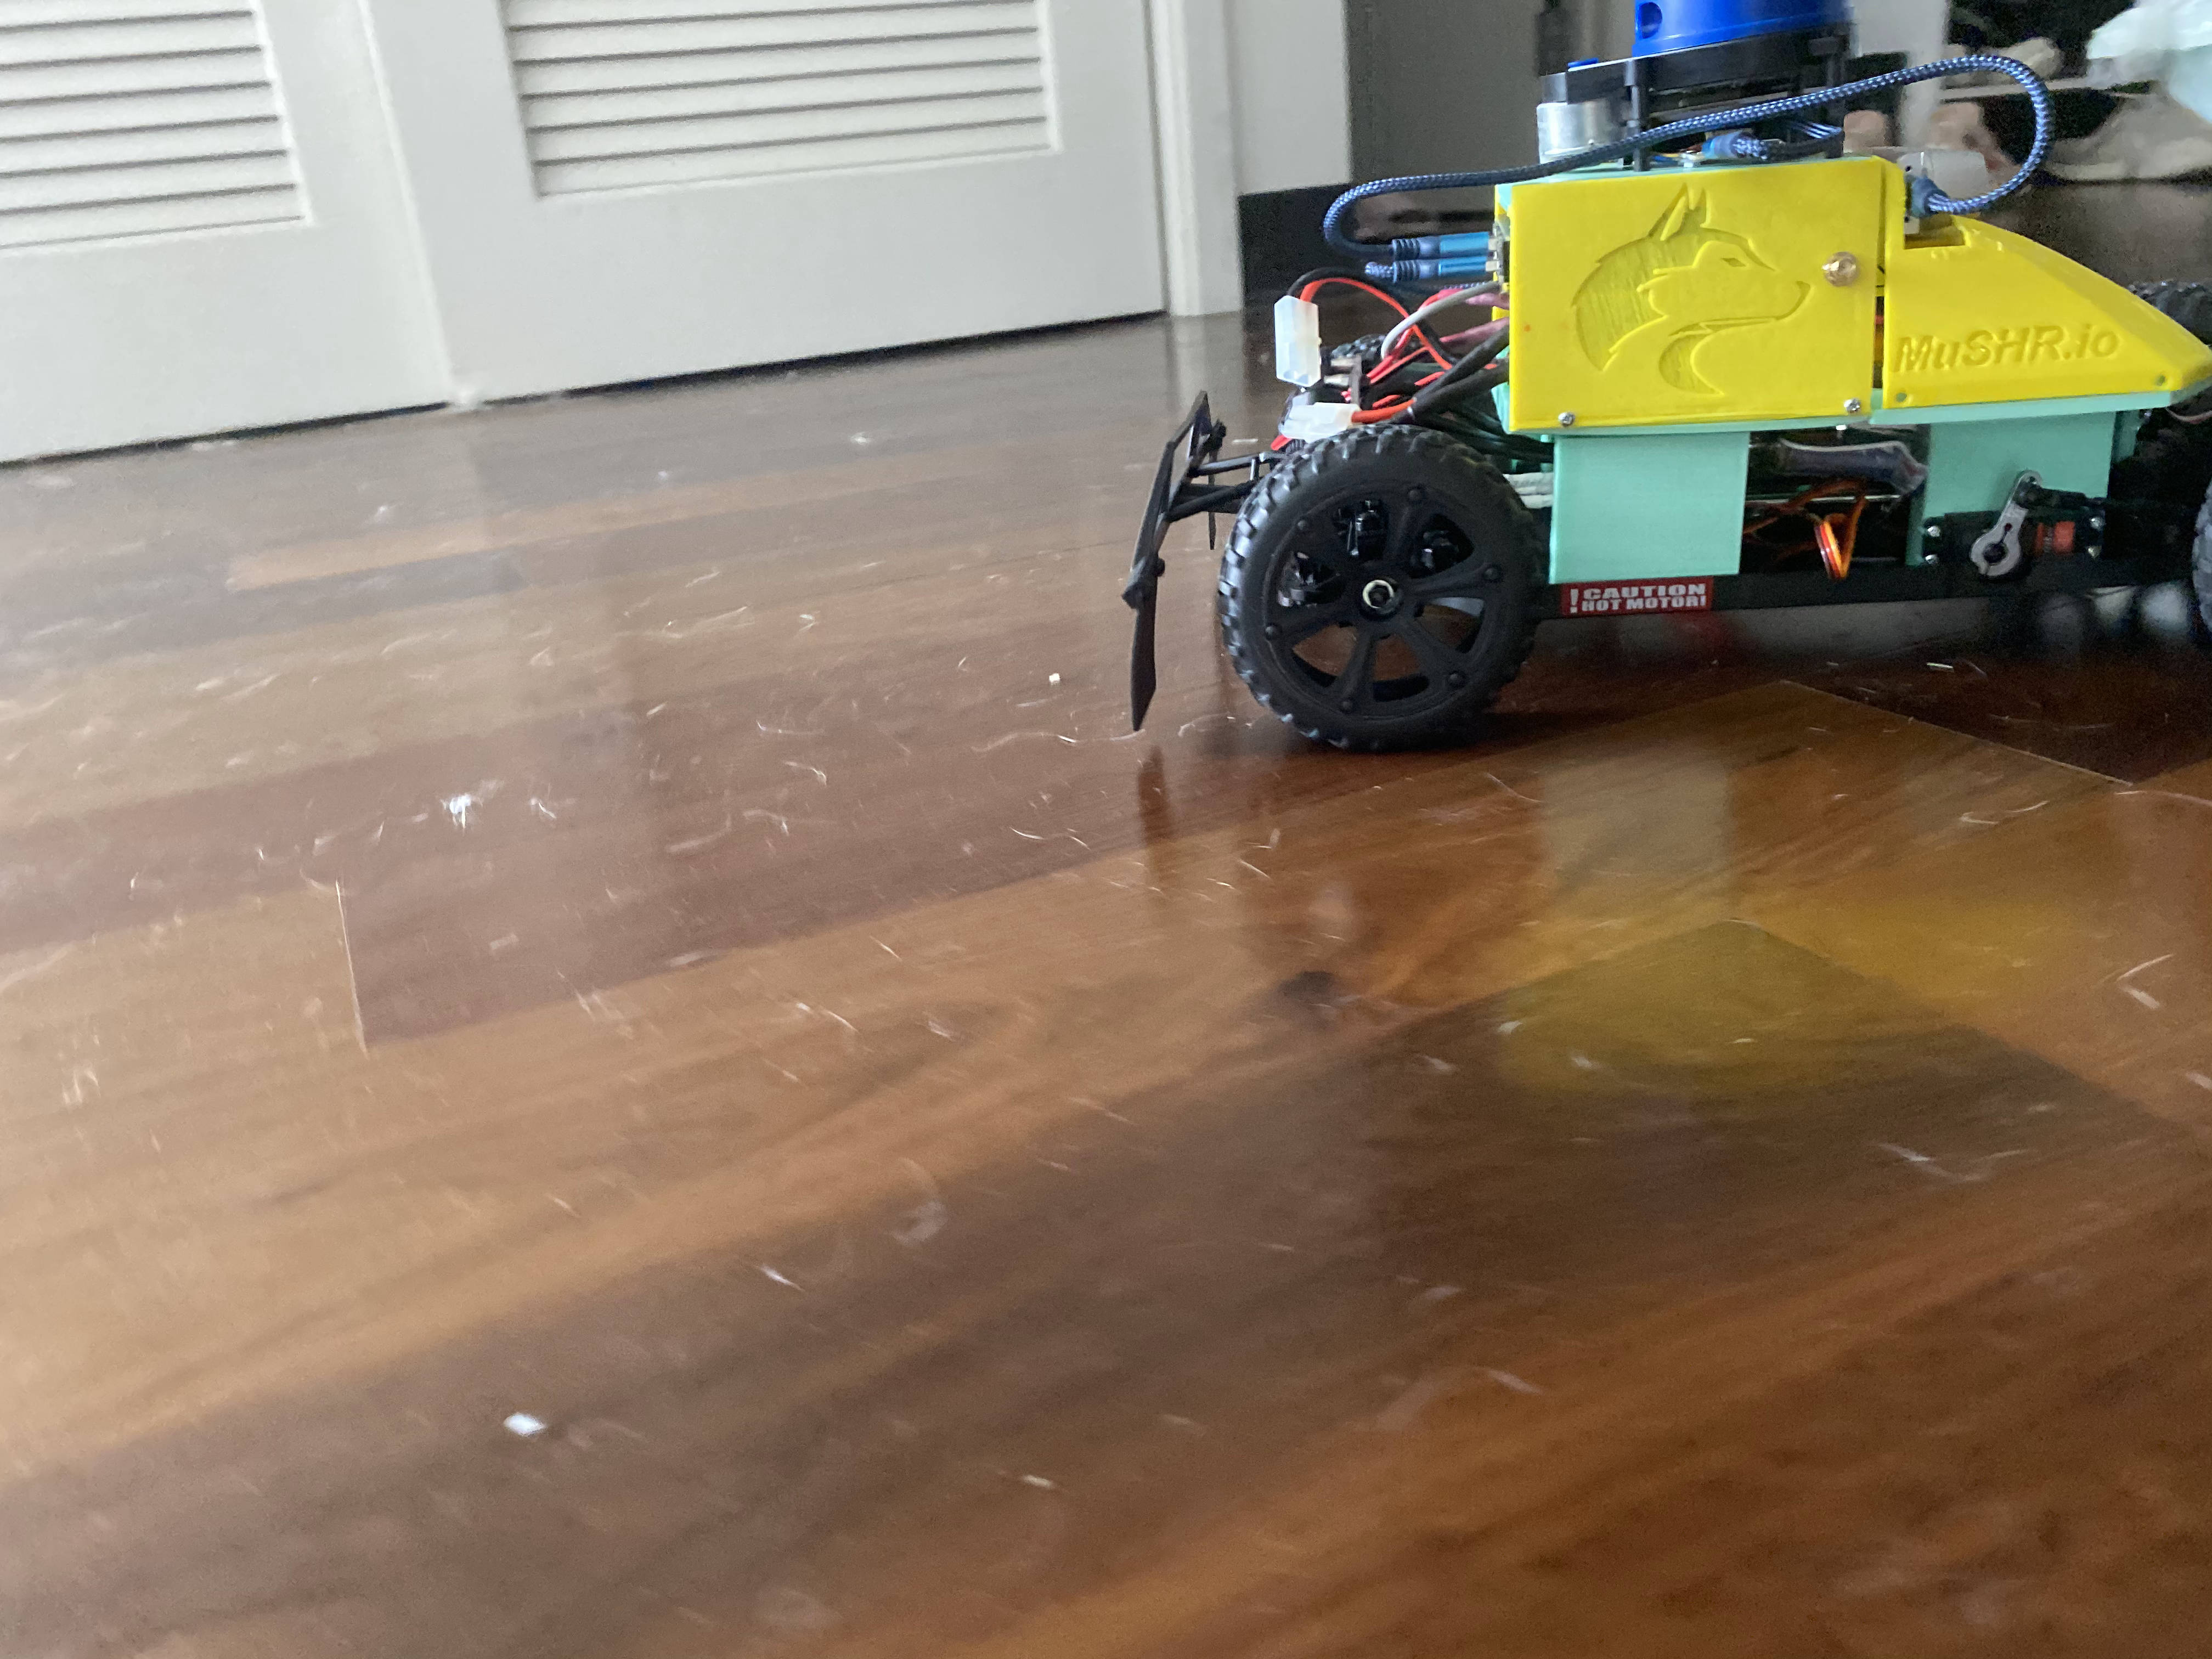mushr_car: (1089, 3, 2212, 775)
